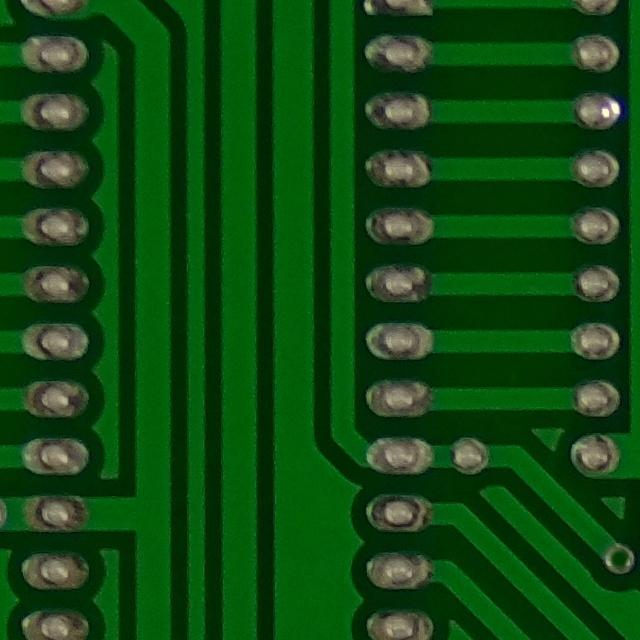missing_hole: (590, 531, 640, 584)
